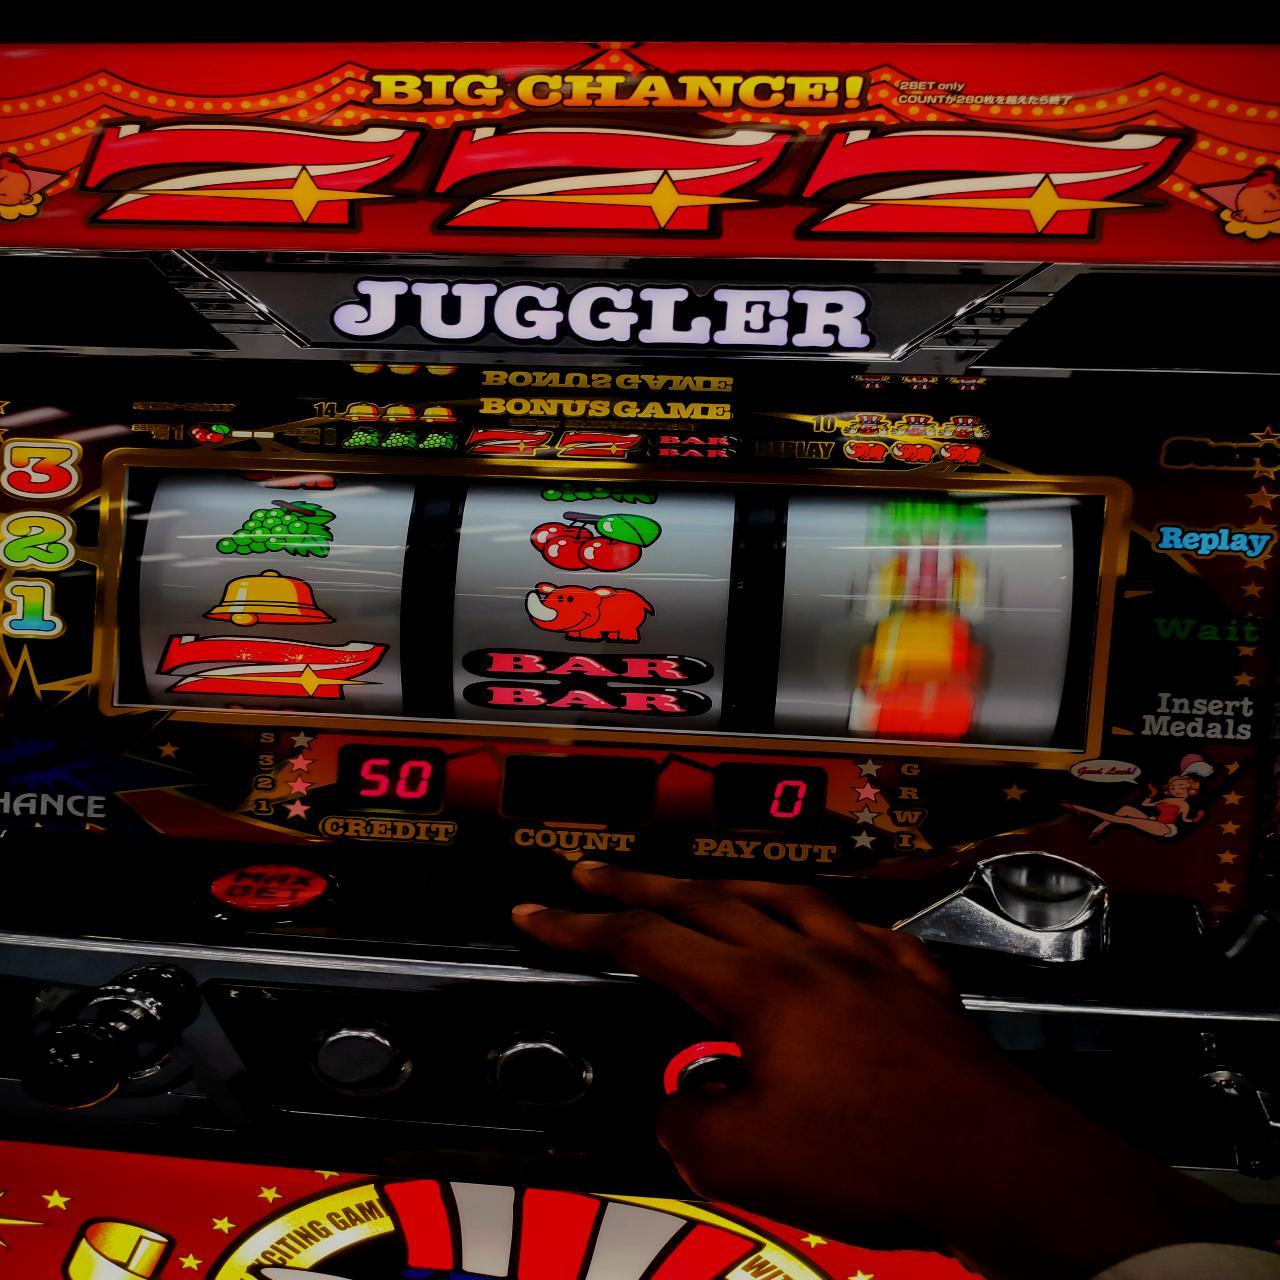7: (156, 632, 384, 700)
8: (518, 580, 659, 641)
bar: (462, 648, 722, 720)
bell: (207, 571, 335, 626)
cherry: (523, 510, 661, 571)
grape: (211, 498, 340, 565)
rhino: (127, 450, 1114, 748)
